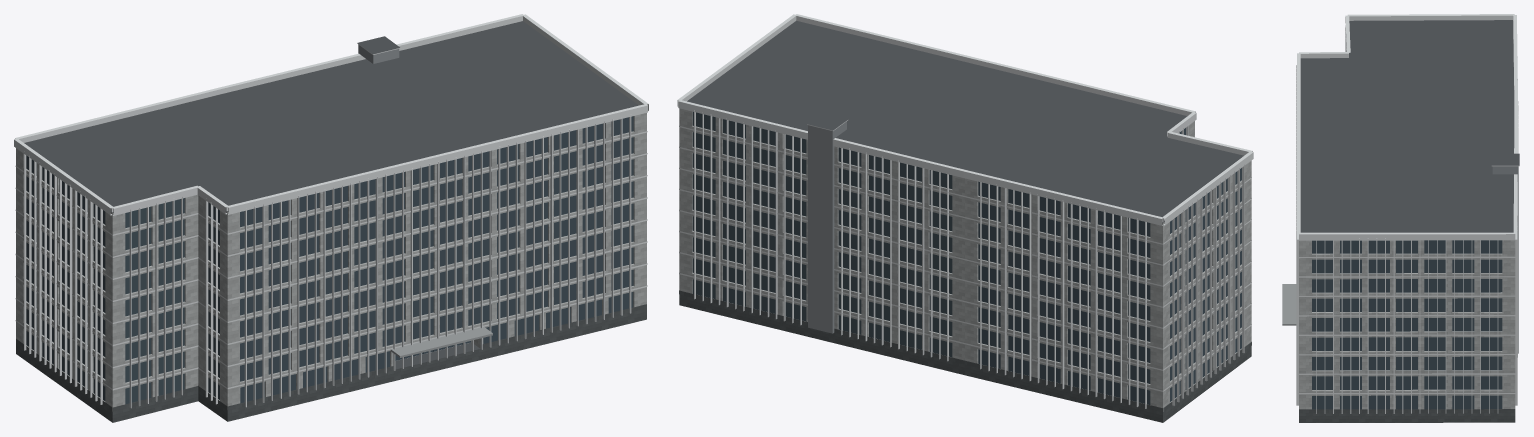
The picture shows the model from 3 angles, left to right: view 1: azimuth 30°, elevation 25°; view 2: azimuth 150°, elevation 25°; view 3: azimuth 270°, elevation 25°; orthographic projection. The views are drawn at different scales.
Parts seen in each view (by area): view 1: itBldg__trim, itBldg__roof, itBldg__glass, itBldg__wall, itBldg__base, itBldg__canopy; view 2: itBldg__roof, itBldg__trim, itBldg__wall, itBldg__glass, itBldg__base, itBldg__wall2; view 3: itBldg__roof, itBldg__glass, itBldg__wall, itBldg__trim, itBldg__base, itBldg__canopy, itBldg__wall2.
Part boxes in pixels (bbox=[...]): itBldg__trim: bbox=[14, 14, 648, 408]; itBldg__roof: bbox=[24, 21, 638, 369]; itBldg__glass: bbox=[26, 116, 633, 404]; itBldg__wall: bbox=[16, 113, 646, 411]; itBldg__base: bbox=[16, 304, 646, 422]; itBldg__canopy: bbox=[390, 326, 492, 357]; itBldg__roof: bbox=[687, 20, 1243, 222]; itBldg__trim: bbox=[677, 14, 1253, 408]; itBldg__wall: bbox=[679, 108, 1251, 411]; itBldg__glass: bbox=[692, 112, 1241, 404]; itBldg__base: bbox=[679, 290, 1251, 422]; itBldg__wall2: bbox=[808, 121, 846, 333]; itBldg__roof: bbox=[1300, 20, 1519, 254]; itBldg__glass: bbox=[1312, 240, 1502, 409]; itBldg__wall: bbox=[1299, 240, 1515, 409]; itBldg__trim: bbox=[1296, 14, 1519, 413]; itBldg__base: bbox=[1299, 409, 1515, 422]; itBldg__canopy: bbox=[1282, 284, 1296, 325]; itBldg__wall2: bbox=[1492, 166, 1518, 353].
Bounding box in the file's own units: 94.8 × 39.8 × 43.11.
Materials: 9 (2 with a texture image).
